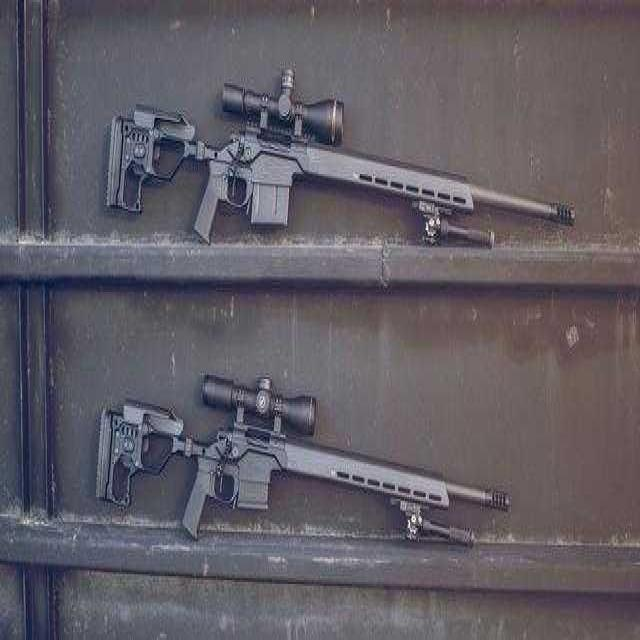heavyweapon: (90, 343, 550, 581), (85, 53, 607, 258)
